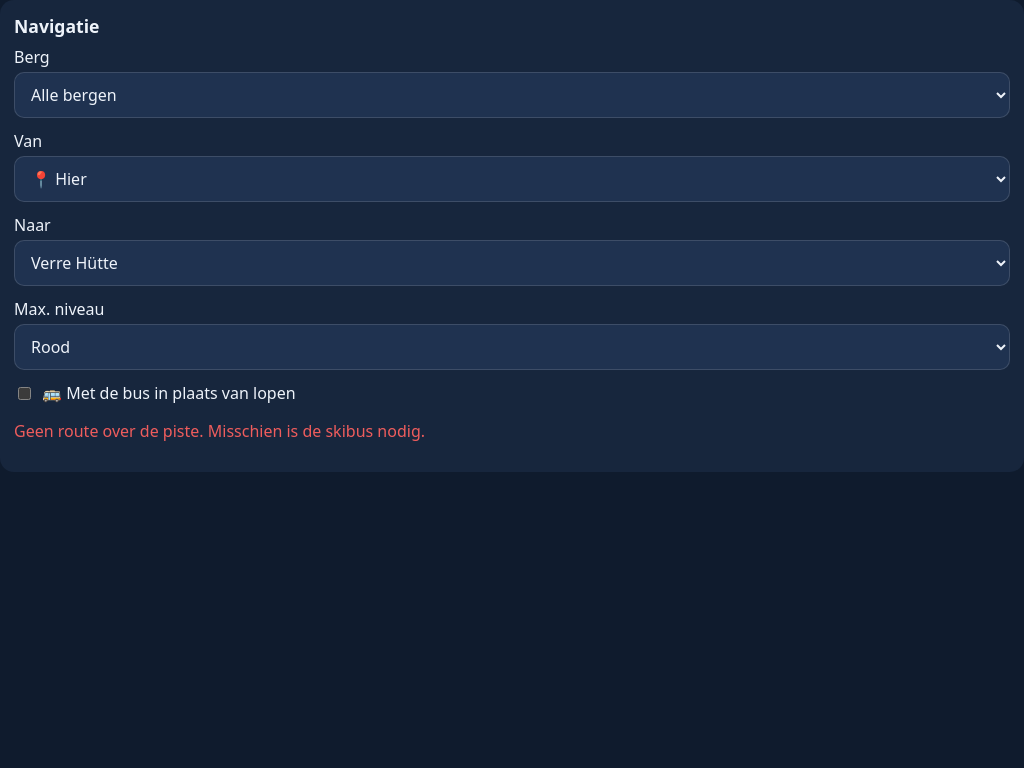
Scenario: NavPanel › bus switch › stays on the pistes until the switch is on, then rides the bus
Expected: the text "Geen route over de piste. Misschien is de skibus nodig." is shown, x1=14 y1=420 x2=425 y2=442
Click the checkbox labelled "🚌 Met de bus in plaats van lopen" at coordinates (24, 393), box x1=18 y1=386 x2=31 y2=400
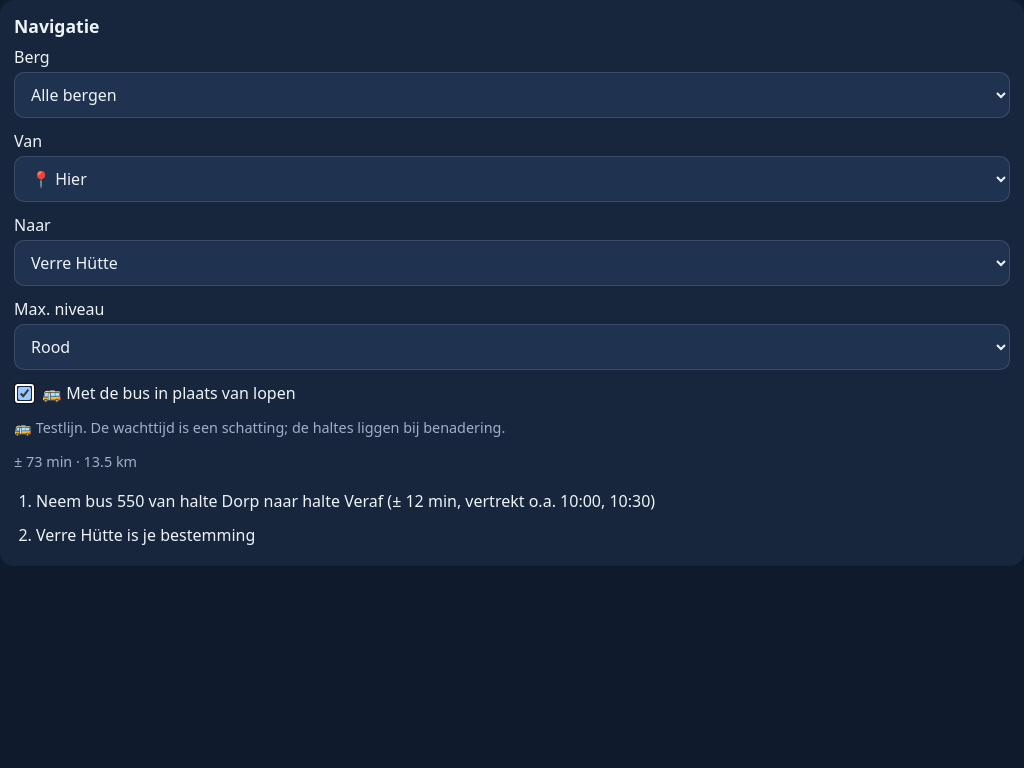
Now the list item "Neem bus 550 van halte Dorp naar halte Veraf (± 12 min, vertrekt o.a. 10:00, 10:30)" is shown, box x1=36 y1=490 x2=655 y2=512
Now the text "Testlijn" is shown, box x1=36 y1=418 x2=83 y2=437
